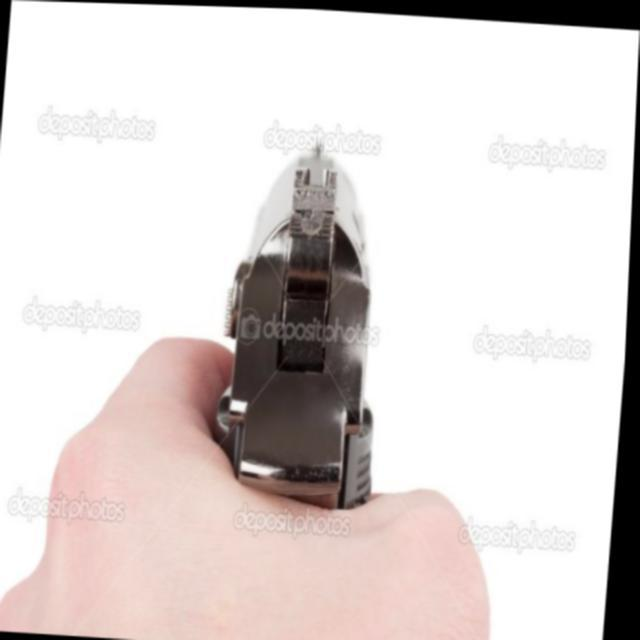weapon: (210, 132, 400, 510)
